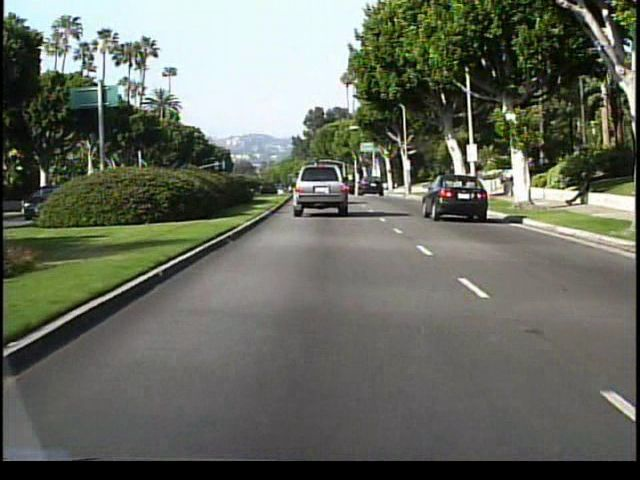person: (569, 167, 596, 211)
